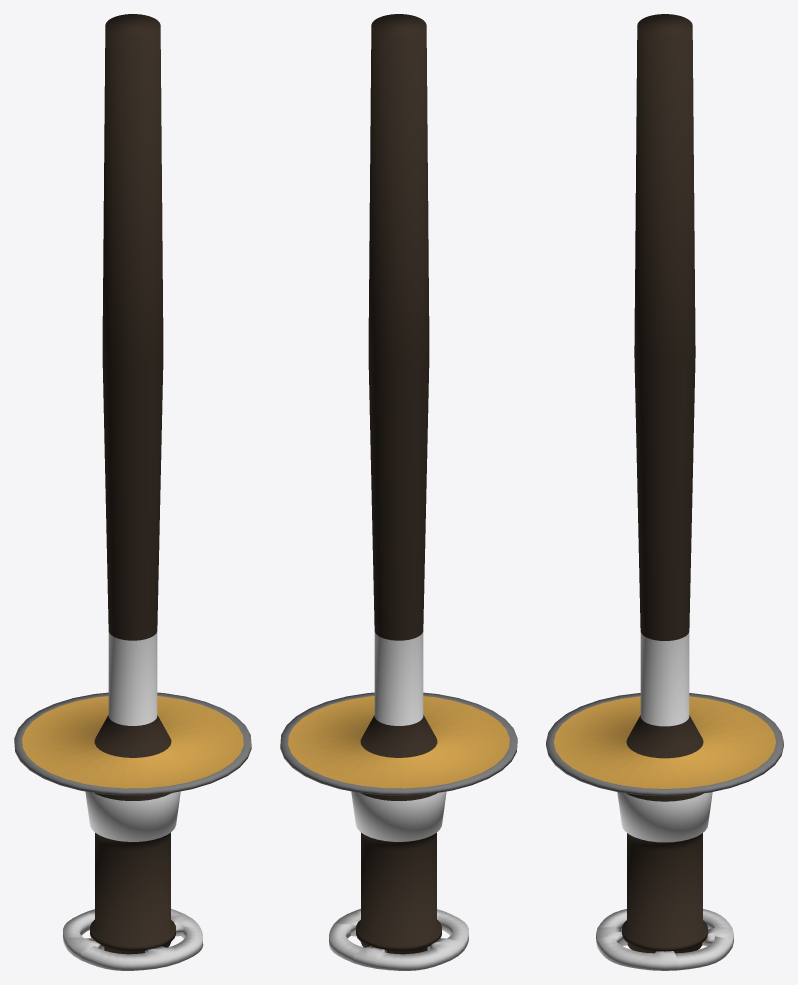
Rendered from PoleTable.fbx.
3 views of the same model, side by side, from view 1: azimuth 30°, elevation 25°; view 2: azimuth 150°, elevation 25°; view 3: azimuth 270°, elevation 25° (orthographic).
Parts seen in each view (by area): view 1: Cylinder; view 2: Cylinder; view 3: Cylinder.
Part boxes in pixels (x1,y1,x2,y2): Cylinder: [14, 14, 251, 970]; Cylinder: [280, 14, 517, 970]; Cylinder: [546, 14, 783, 970].
Bounding box in the file's own units: 2.44 × 10.37 × 2.44.
